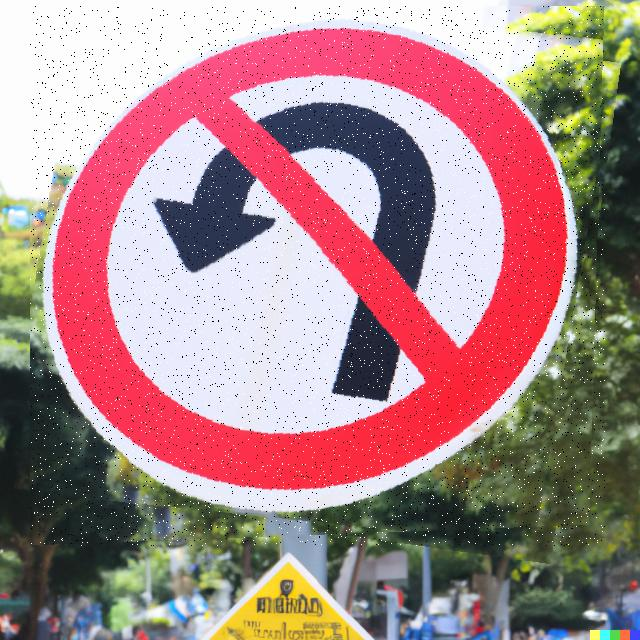no u turn: (30, 6, 605, 546)
